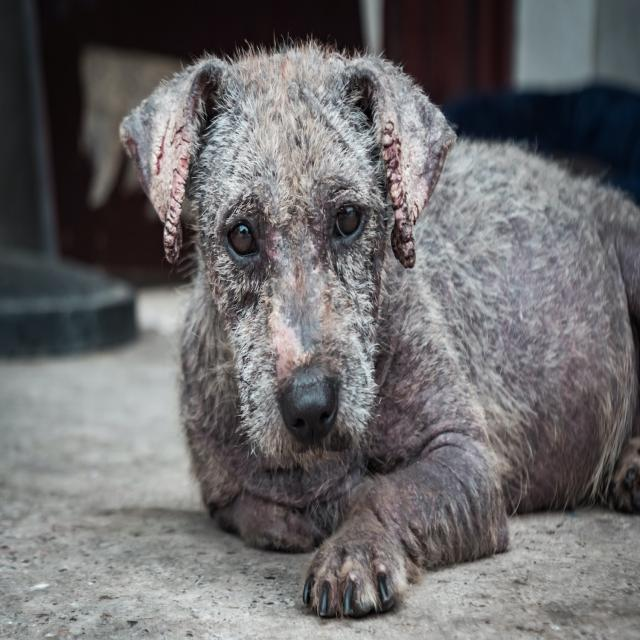mange: (388, 174, 624, 460), (204, 72, 380, 226), (120, 56, 213, 262), (386, 65, 451, 268), (273, 217, 335, 373)
